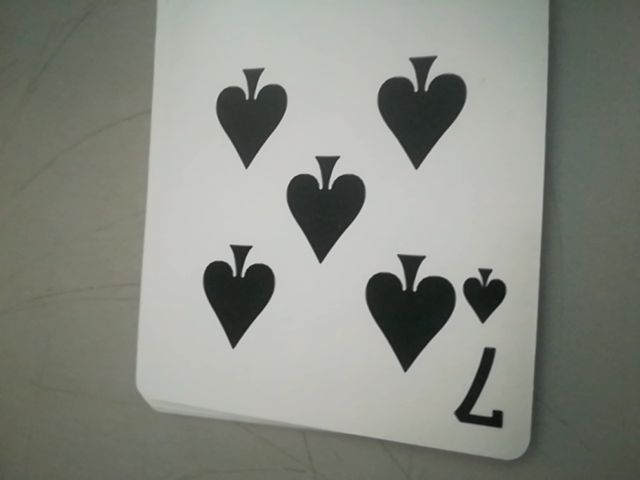ht 7: (457, 267, 516, 437)
